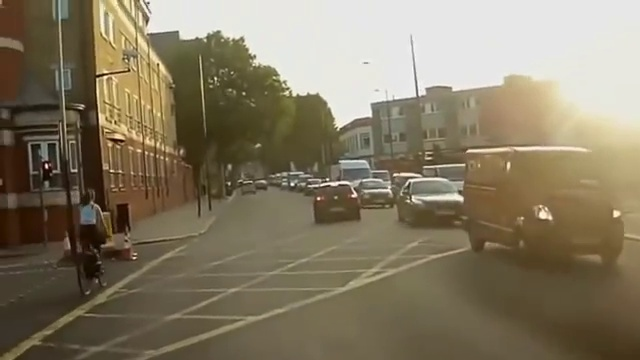cyclist_back: (72, 186, 113, 294)
